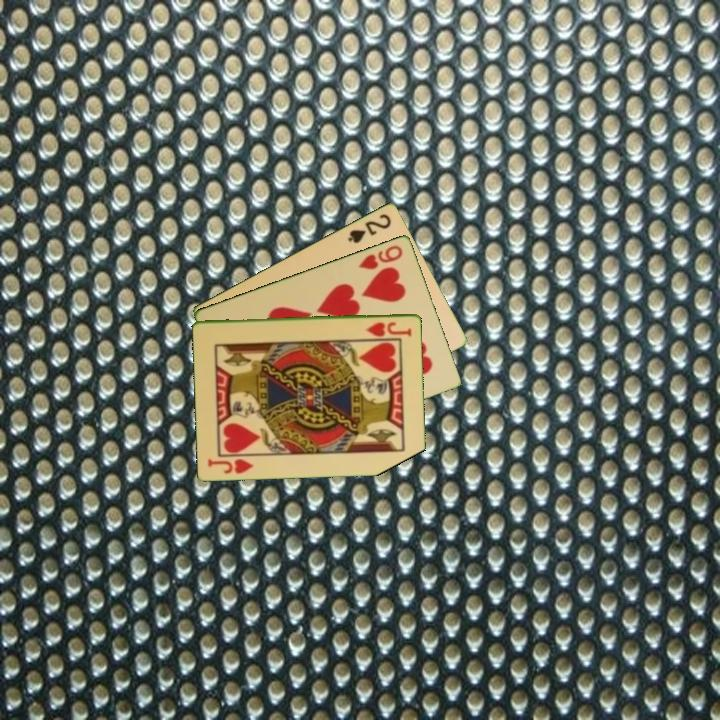2s: (344, 210, 394, 246)
9h: (355, 241, 406, 272)
Jh: (205, 454, 256, 476), (363, 318, 414, 339)
